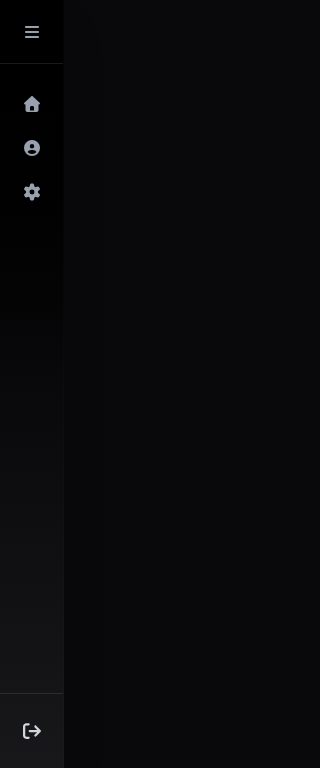
Test: SideBar › renders navigation items and toggles collapse state
The width and height of the screenshot is (320, 768).
Expected: the link named "Dashboard" is shown, [22,96,42,112]
Expected: the link named "Settings" is shown, [22,184,42,200]
Click the button named "expand sidebar": (32,32) [12,12,52,52]
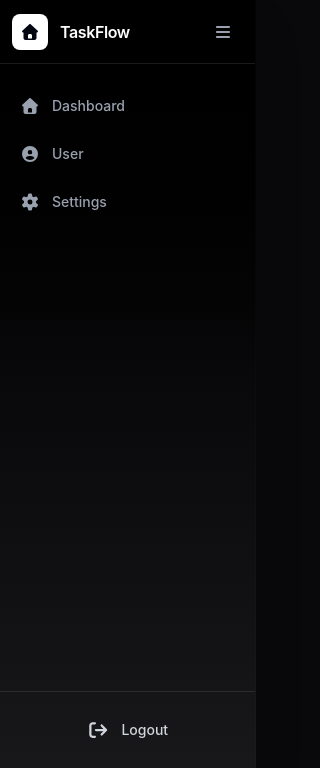
Expected: the link "Dashboard" is shown, [20,97,125,114]
Result: the text "TaskFlow" is shown at [60,20,130,44]
